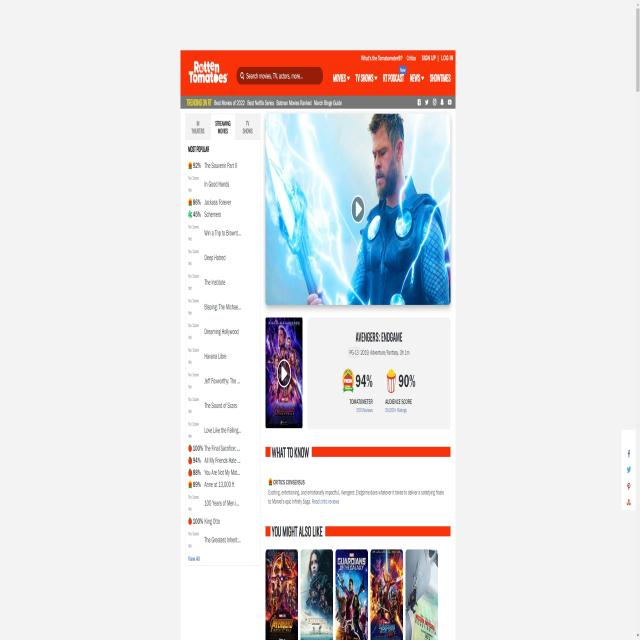content: (264, 473, 450, 512)
menu-bar: (358, 49, 456, 64)
search: (235, 65, 322, 87)
tab-bar: (328, 61, 454, 95), (184, 111, 260, 142)
